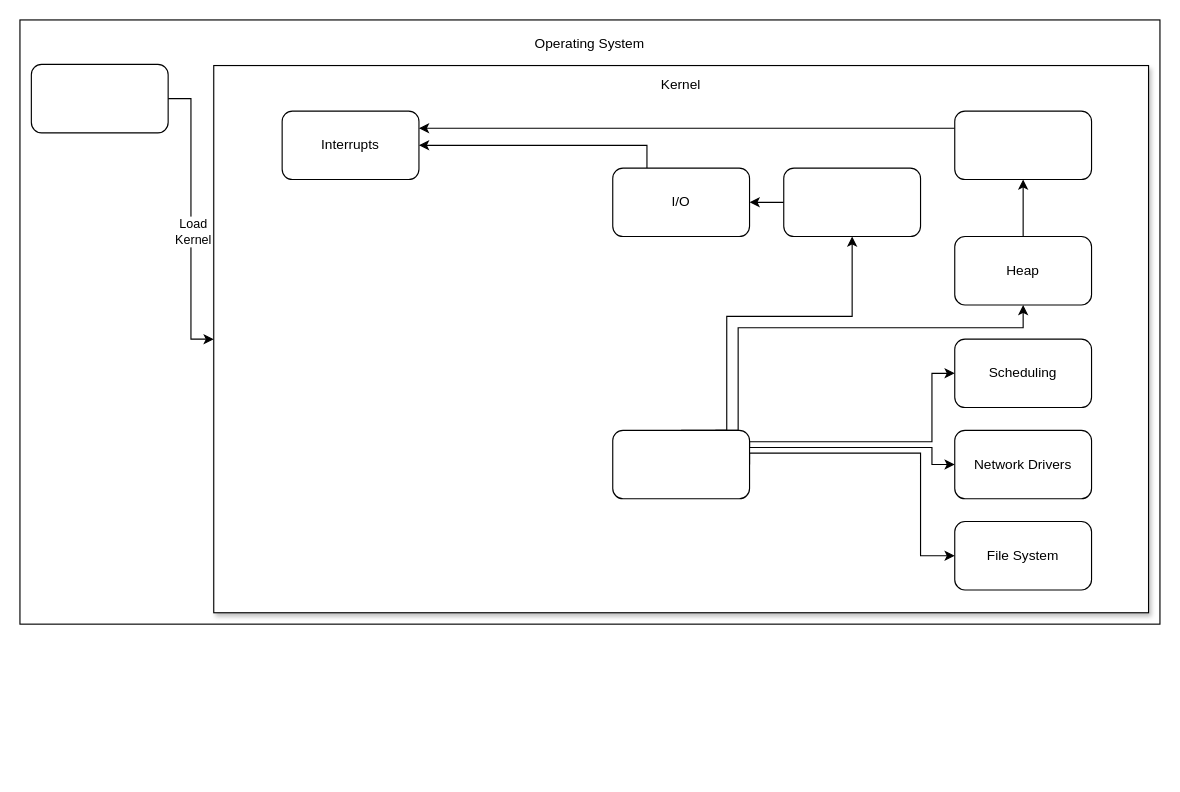
Image size: 1180x792. Some labels were removed from this diagram. The centre of each missing label's shape, as x and y in pixels:
Bootloader: the point at 99,98
Libc/Libk: the point at 852,202
Userspace: the point at 681,464
Virtual Memory: the point at 1023,145
